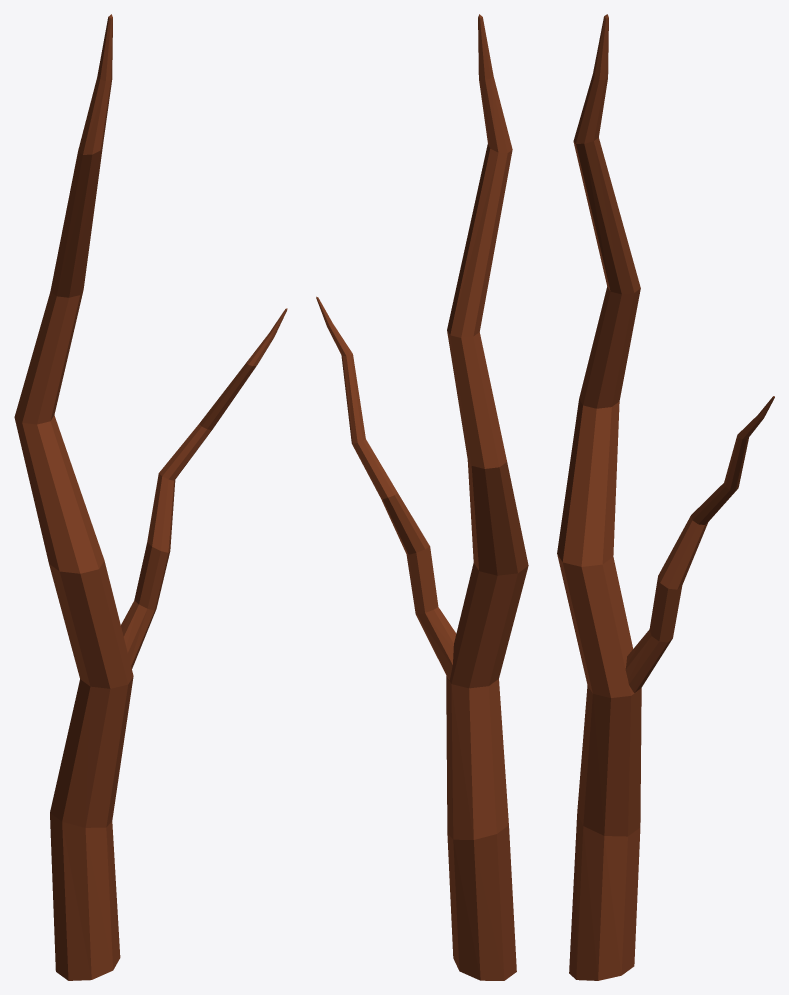
Rendered from Tronco1 .fbx.
The picture shows the model from 3 angles, left to right: view 1: azimuth 30°, elevation 25°; view 2: azimuth 150°, elevation 25°; view 3: azimuth 330°, elevation 25°; orthographic projection. The views are drawn at different scales.
Parts seen in each view (by area): view 1: Tronco 1; view 2: Tronco 1; view 3: Tronco 1.
Boxes of the visible parts, bbox=[...] form: Tronco 1: bbox=[14, 14, 287, 980]; Tronco 1: bbox=[316, 14, 528, 980]; Tronco 1: bbox=[557, 14, 774, 980].
Bounding box in the file's own units: 118 × 473 × 45.12.
